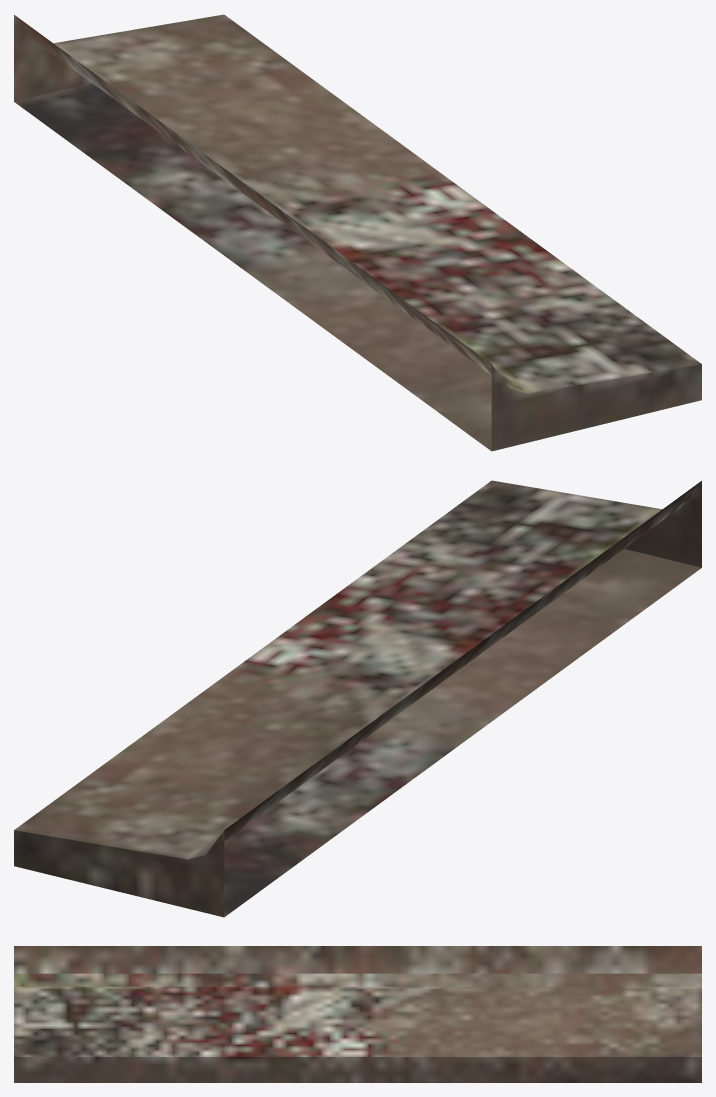
Rendered from WindowTop_M.FBX.
The picture shows the model from 3 angles, top to bottom: view 1: azimuth 30°, elevation 25°; view 2: azimuth 150°, elevation 25°; view 3: azimuth 270°, elevation 25°; orthographic projection. The views are drawn at different scales.
Parts seen in each view (by area): view 1: WindowTop_M; view 2: WindowTop_M; view 3: WindowTop_M.
Part boxes in pixels (x1,y1,x2,y2): WindowTop_M: [14, 14, 701, 451]; WindowTop_M: [14, 480, 701, 917]; WindowTop_M: [14, 946, 701, 1082].
Size of the model in its own units: 80.93 by 32.1 by 318.
